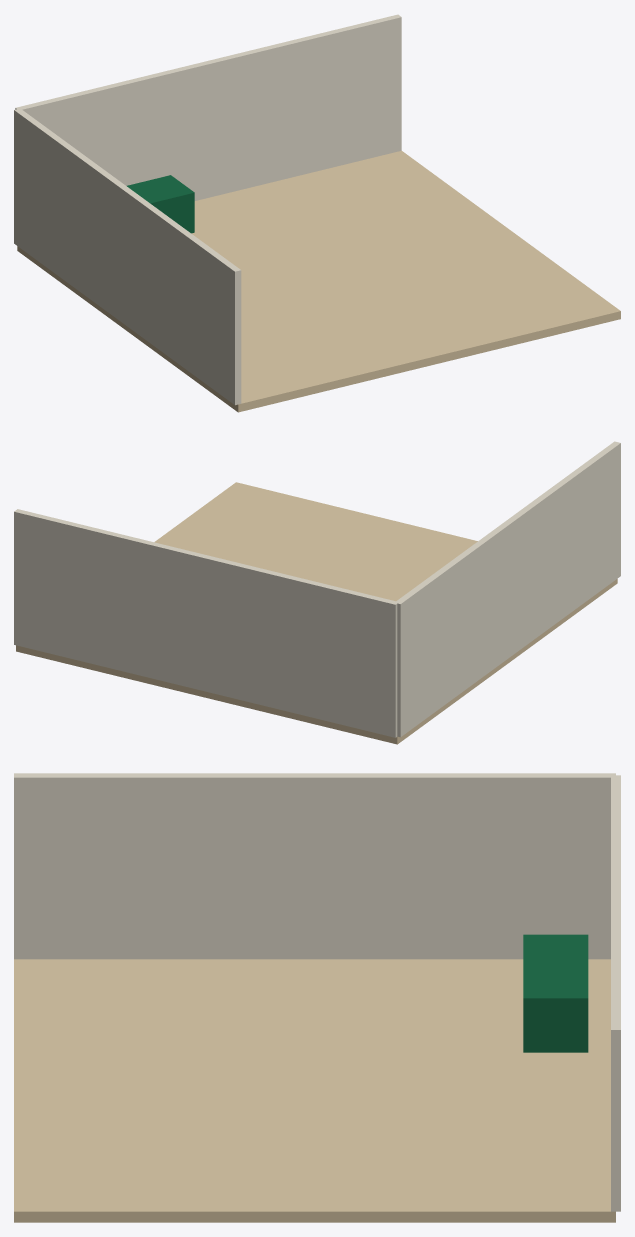
The model's file is development-room.glb.
3 views of the same model, one above another, from view 1: azimuth 30°, elevation 25°; view 2: azimuth 150°, elevation 25°; view 3: azimuth 270°, elevation 25° (orthographic). The views are drawn at different scales.
Visible parts, largest first — view 1: Floor, BackWall, SideWall, Seat; view 2: BackWall, SideWall, Floor; view 3: Floor, SideWall, Seat, BackWall.
Boxes of the visible parts, <box> form: Floor: <box>17,150,620,412</box>; BackWall: <box>15,14,401,200</box>; SideWall: <box>14,109,241,405</box>; Seat: <box>127,175,194,233</box>; BackWall: <box>14,509,398,737</box>; SideWall: <box>396,441,620,737</box>; Floor: <box>16,482,617,744</box>; Floor: <box>14,959,615,1222</box>; SideWall: <box>14,773,615,959</box>; Seat: <box>523,934,588,1052</box>; BackWall: <box>611,775,620,1211</box>.
Size of the model in its own units: 6.05 by 2.12 by 6.05.
